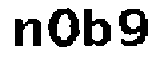0: (45, 4, 81, 52)
9: (115, 6, 152, 52)
b: (83, 3, 112, 50)
n: (10, 16, 44, 51)
